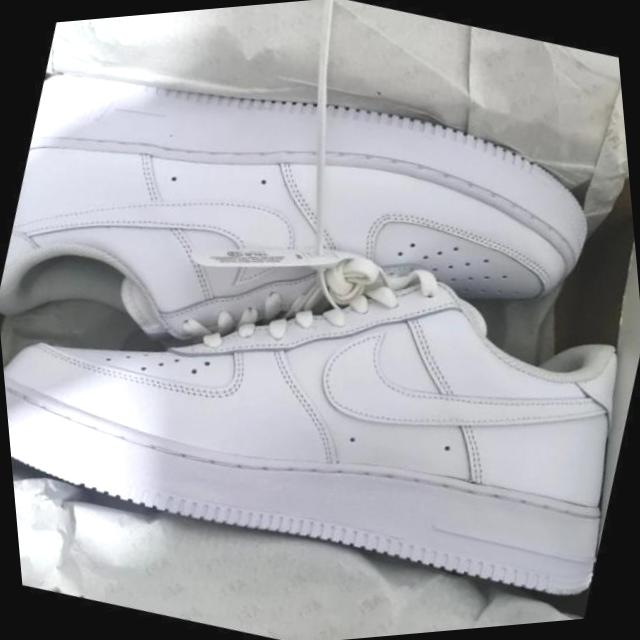nike_original_airforce: (0, 138, 640, 640), (0, 0, 631, 479)
